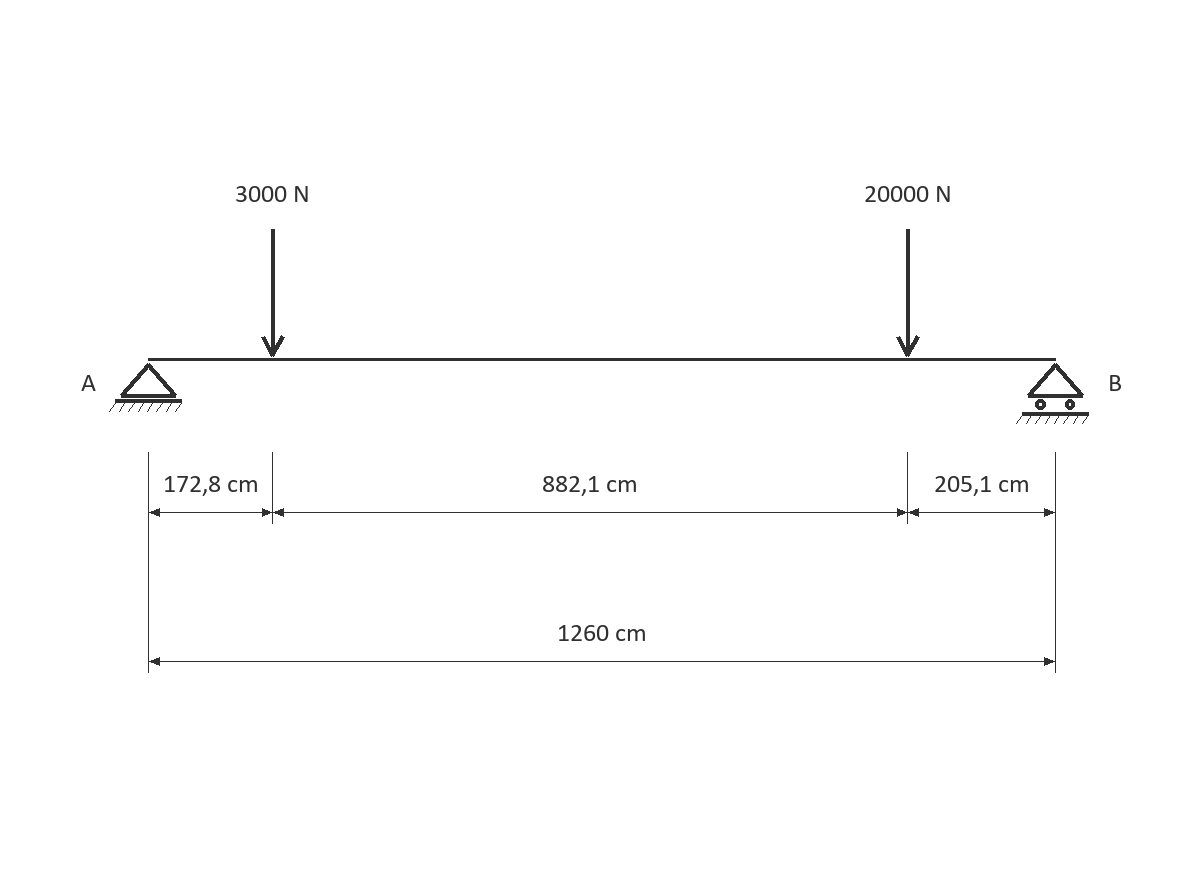pin_support: (109, 363, 182, 412)
point_load: (261, 229, 285, 357), (896, 229, 920, 357)
roller_support: (1016, 363, 1089, 424)
